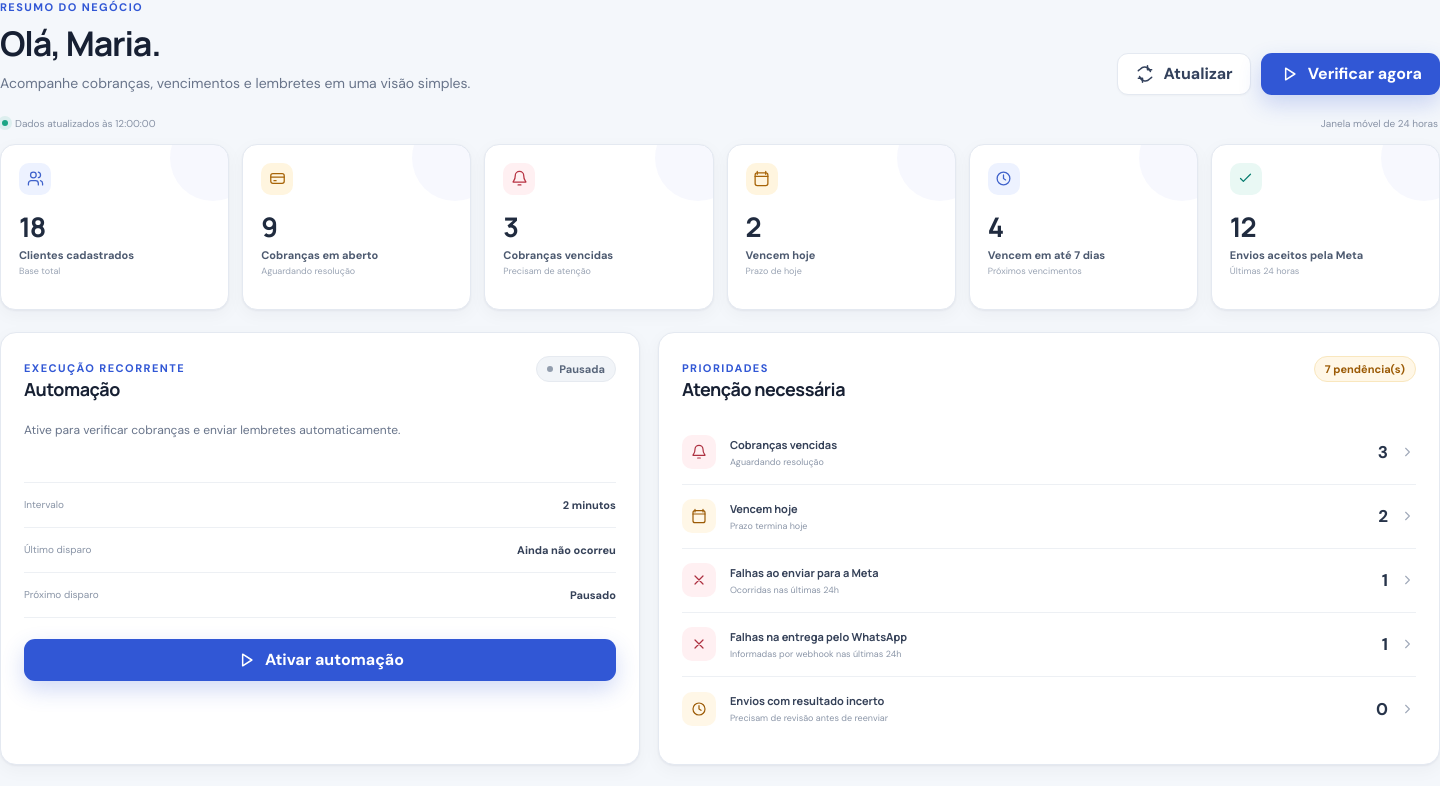
Test: acompanha a verificação manual até o estado terminal
Click the button "Verificar agora".
click(1350, 74)  # box [1261,53,1439,95]
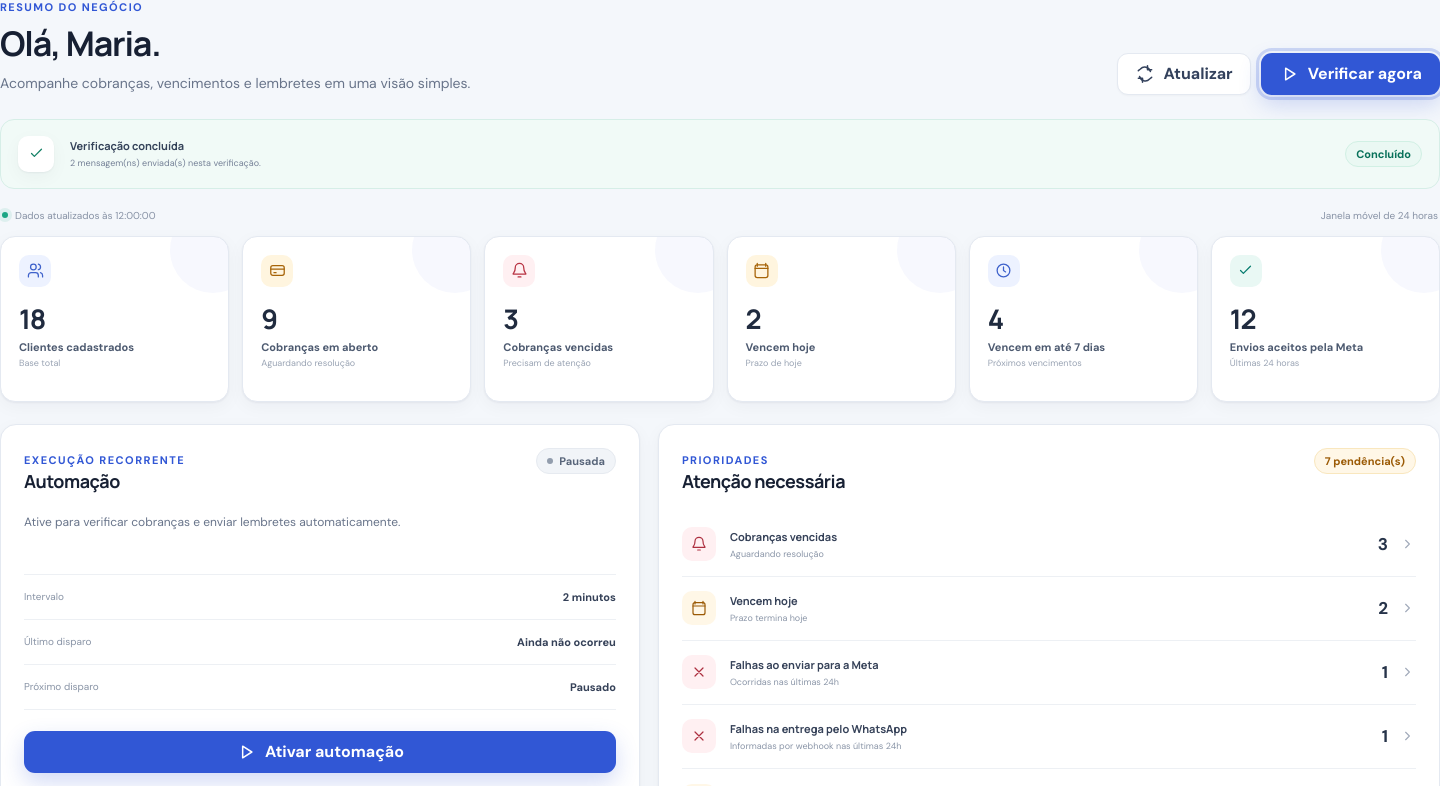
Now the text "Verificação concluída" is shown, box [70,138,184,153]
Now the text "2 mensagem(ns) enviada(s) nesta verificação." is shown, box [70,157,261,169]
